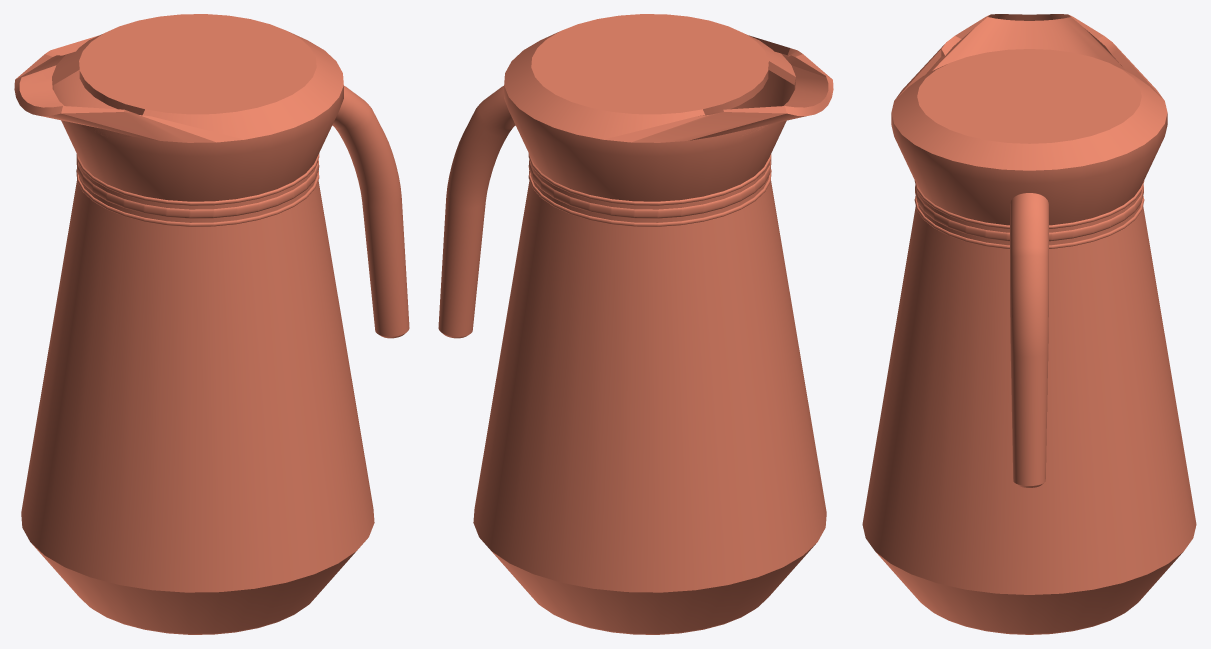
Rendered from waterJug1.glb.
3 renders of one model, left to right at view 1: azimuth 30°, elevation 25°; view 2: azimuth 150°, elevation 25°; view 3: azimuth 270°, elevation 25°, orthographic. The views are drawn at different scales.
Visible parts, largest first — view 1: Cylinder; view 2: Cylinder; view 3: Cylinder.
Part boxes in pixels (<box>): Cylinder: <box>14,14,409,634</box>; Cylinder: <box>438,14,833,634</box>; Cylinder: <box>862,14,1196,634</box>.
Size of the model in its own units: 0.1661 by 0.2215 by 0.1333.
